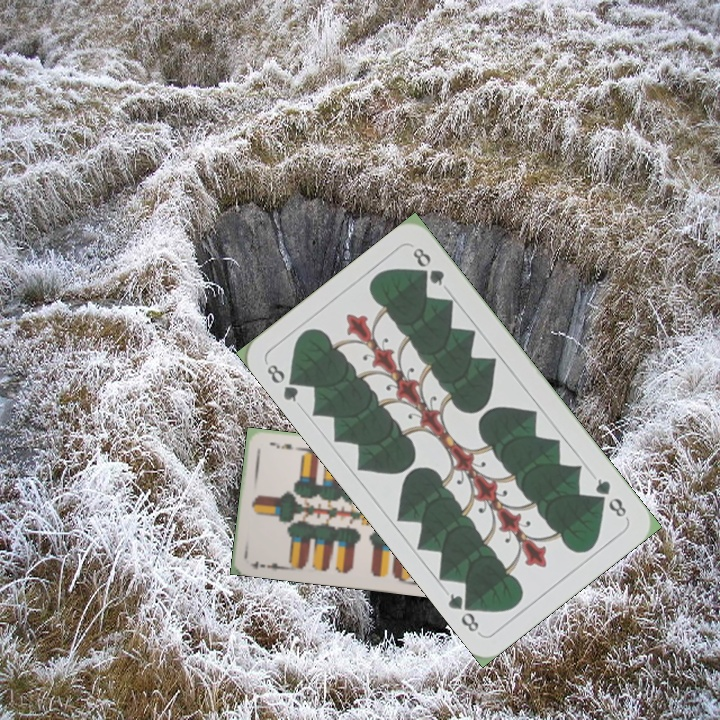E7: (246, 557, 286, 572)
G8: (262, 360, 304, 405), (591, 474, 630, 522)
